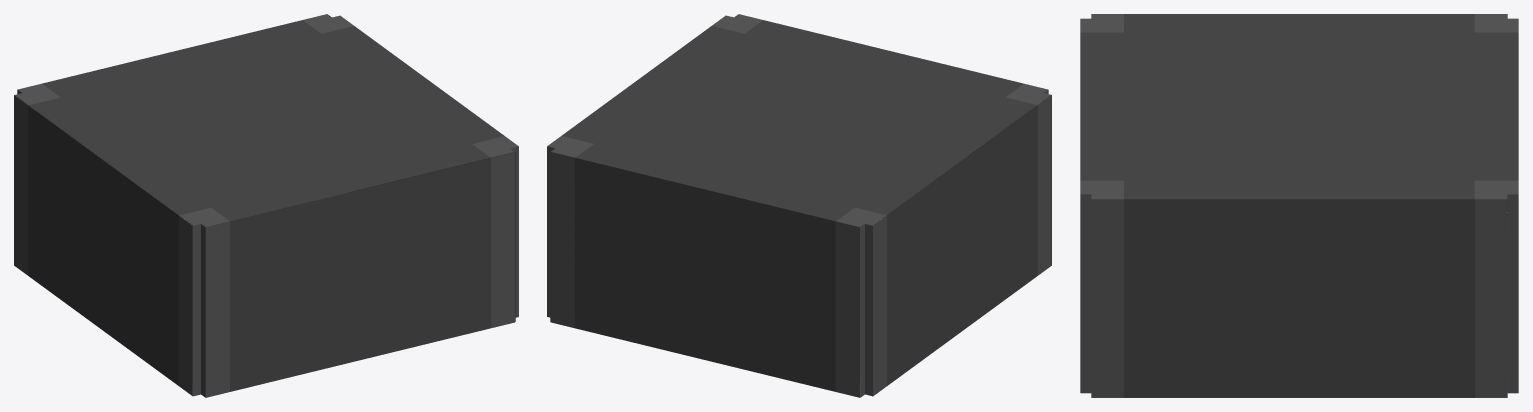
The model's file is CastleWallTop+Connection.fbx.
3 renders of one model, left to right at view 1: azimuth 30°, elevation 25°; view 2: azimuth 150°, elevation 25°; view 3: azimuth 270°, elevation 25°, orthographic. The views are drawn at different scales.
Parts seen in each view (by area): view 1: Castle wall top + connection; view 2: Castle wall top + connection; view 3: Castle wall top + connection.
Boxes of the visible parts, box(x1,y1,x2,y2) form: Castle wall top + connection: box(14, 14, 518, 397); Castle wall top + connection: box(547, 14, 1051, 397); Castle wall top + connection: box(1080, 14, 1518, 397).
Bounding box in the file's own units: 400 × 400 × 200.
